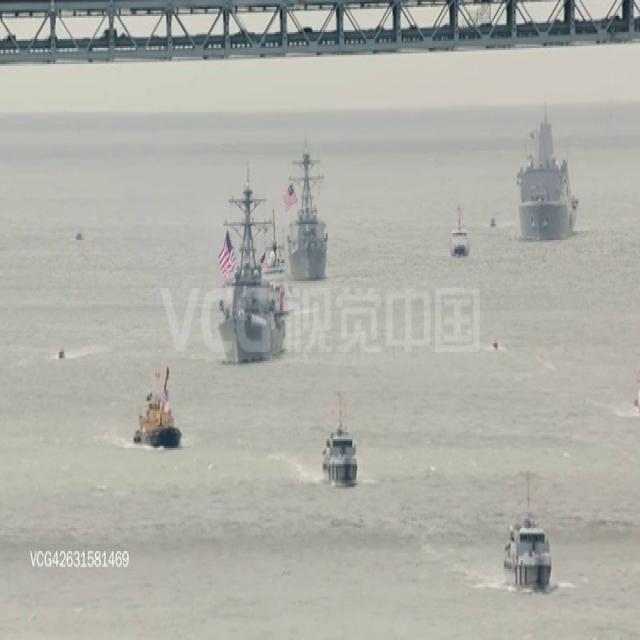houseboat: (503, 463, 555, 586), (133, 366, 181, 449), (323, 391, 360, 482), (264, 226, 292, 314), (450, 204, 468, 256), (488, 217, 498, 230), (57, 346, 66, 359), (492, 338, 500, 349), (76, 231, 82, 244)
navalvessels: (219, 173, 284, 356), (518, 105, 578, 236), (285, 147, 330, 277)
